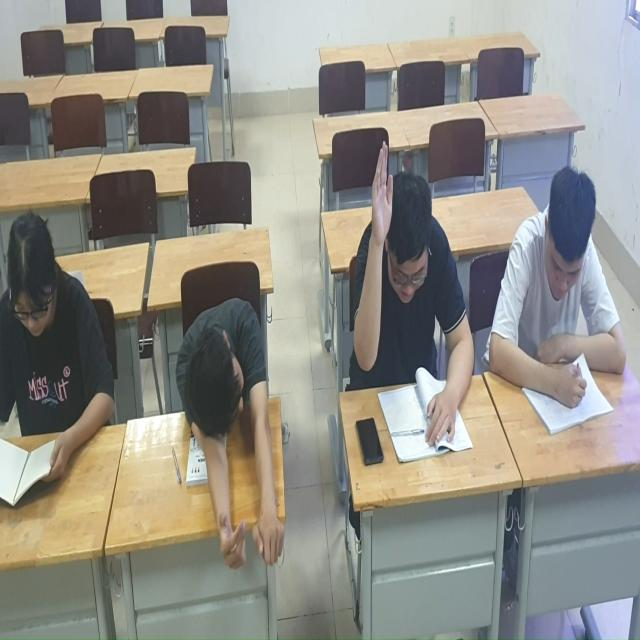raise_hand: (349, 132, 480, 479)
read: (485, 164, 633, 451), (1, 204, 128, 502)
sleep: (175, 279, 294, 605)
